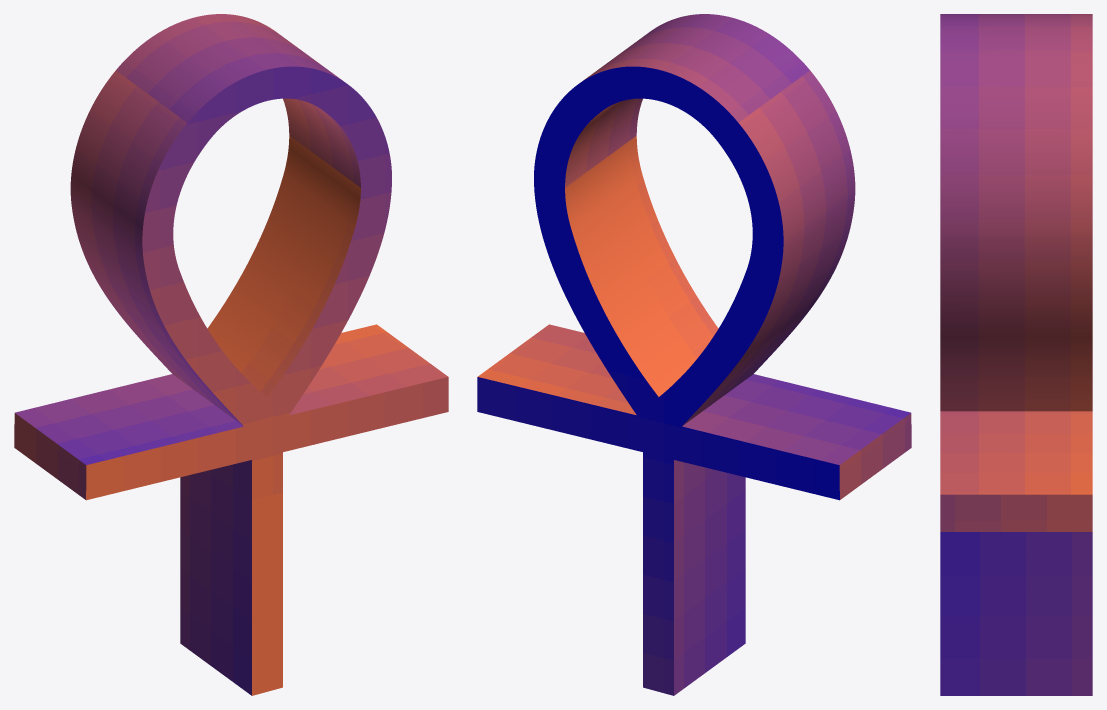
Rendered from anah.gltf.
The picture shows the model from 3 angles, left to right: view 1: azimuth 30°, elevation 25°; view 2: azimuth 150°, elevation 25°; view 3: azimuth 270°, elevation 25°; orthographic projection. The views are drawn at different scales.
Bounding box in the file's own units: 0.014 × 0.023 × 0.0048.
Materials: 1 (1 with a texture image).
